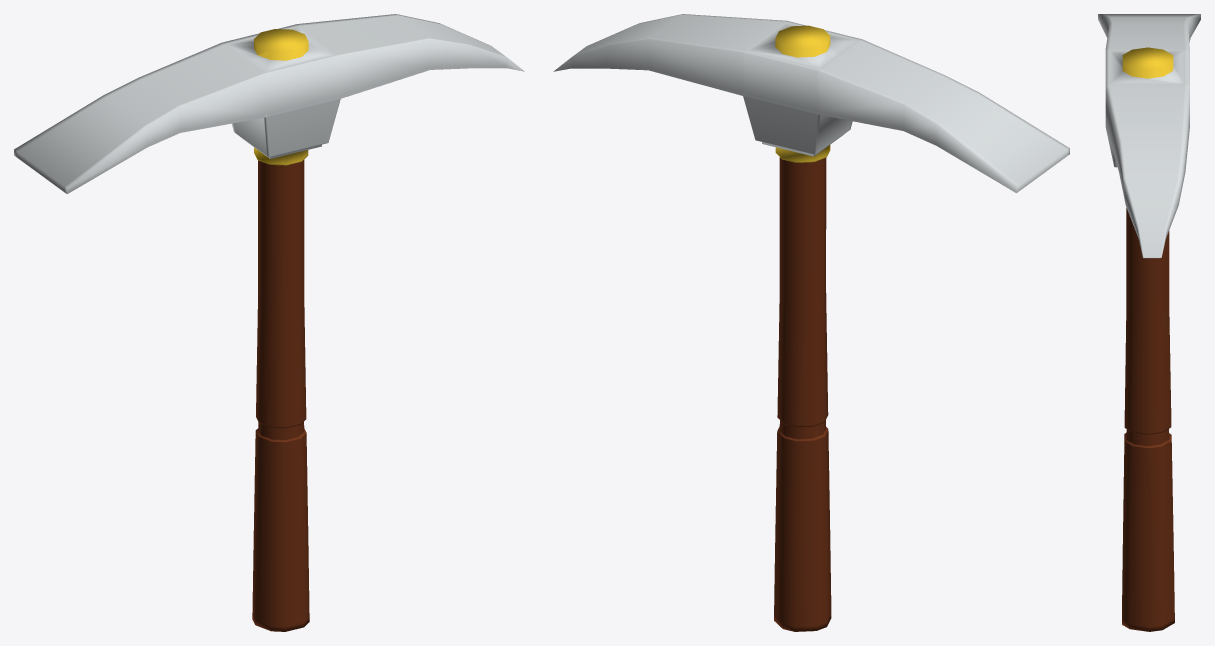
The model's file is Pickaxe.fbx.
3 views of the same model, side by side, from view 1: azimuth 30°, elevation 25°; view 2: azimuth 150°, elevation 25°; view 3: azimuth 270°, elevation 25° (orthographic). The views are drawn at different scales.
Visible parts, largest first — view 1: Cylinder; view 2: Cylinder; view 3: Cylinder.
Boxes of the visible parts, x1,y1,x2,y2 form: Cylinder: (14, 14, 524, 631); Cylinder: (553, 14, 1069, 631); Cylinder: (1098, 14, 1200, 631).
Size of the model in its own units: 0.9213 by 1.06 by 0.1761.
